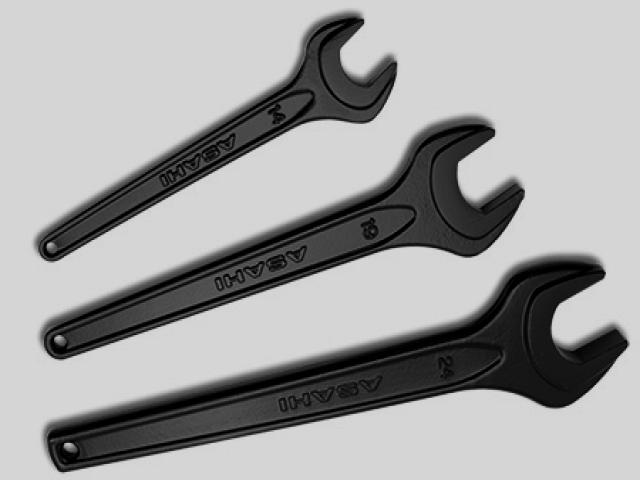Wrench: (48, 267, 628, 472), (45, 126, 524, 358), (40, 19, 396, 261)
